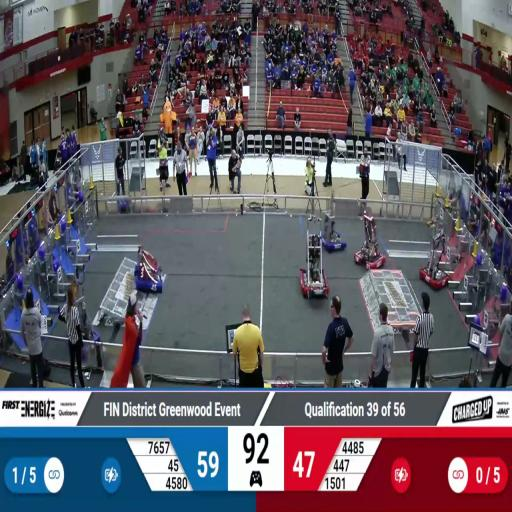robot: (300, 212, 330, 304), (352, 209, 386, 271), (420, 229, 451, 290), (132, 244, 165, 296), (320, 207, 347, 255)
